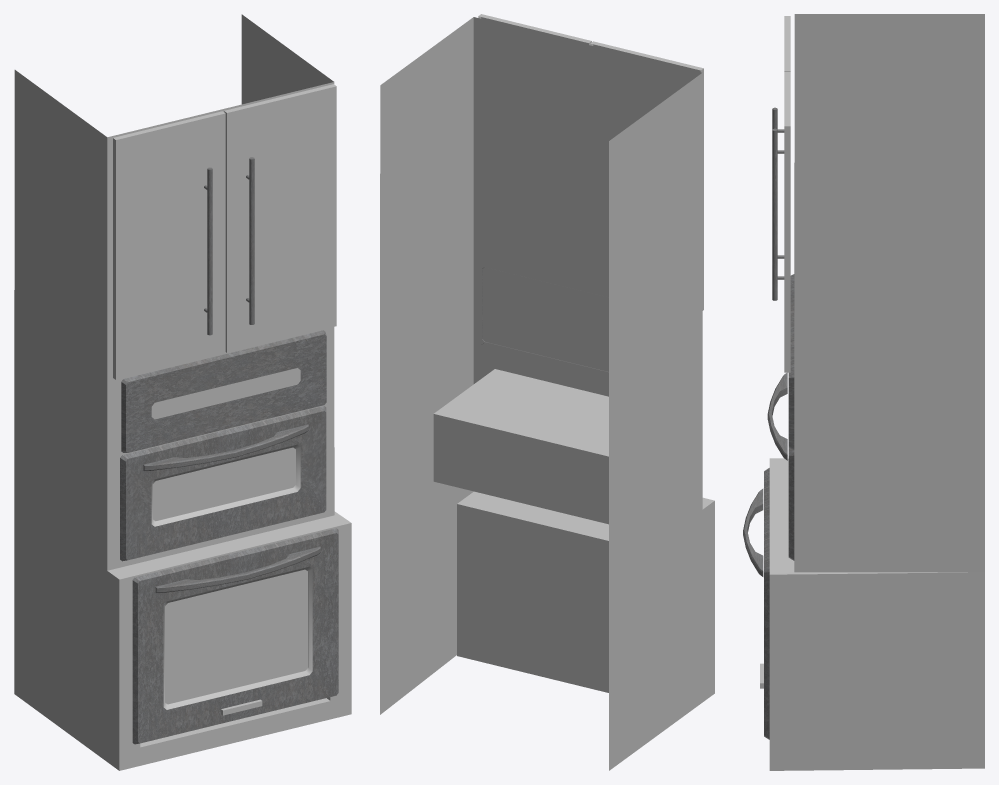
File: SM_Kitchen_Tall_01.FBX
The picture shows the model from 3 angles, left to right: view 1: azimuth 30°, elevation 25°; view 2: azimuth 150°, elevation 25°; view 3: azimuth 270°, elevation 25°; orthographic projection. The views are drawn at different scales.
Parts seen in each view (by area): view 1: SM_Kitchen_Tall_01; view 2: SM_Kitchen_Tall_01; view 3: SM_Kitchen_Tall_01.
Part boxes in pixels (x1,y1,x2,y2): SM_Kitchen_Tall_01: (14, 14, 351, 770); SM_Kitchen_Tall_01: (380, 14, 714, 770); SM_Kitchen_Tall_01: (743, 14, 984, 770).
Bounding box in the file's own units: 1.1 × 2.83 × 0.9686.
